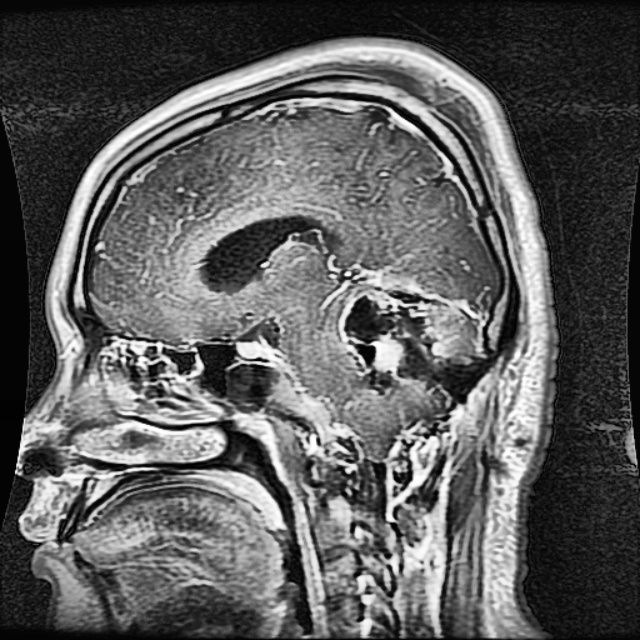Meningioma: (340, 288, 478, 400)
